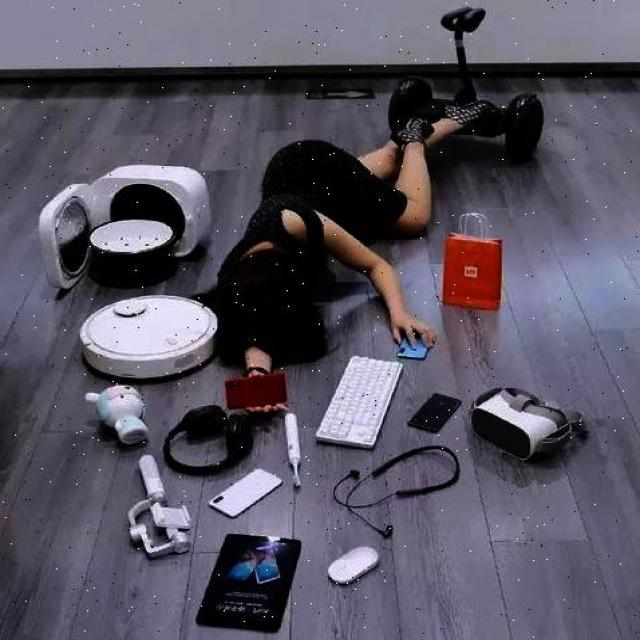fall: (219, 111, 436, 363)
